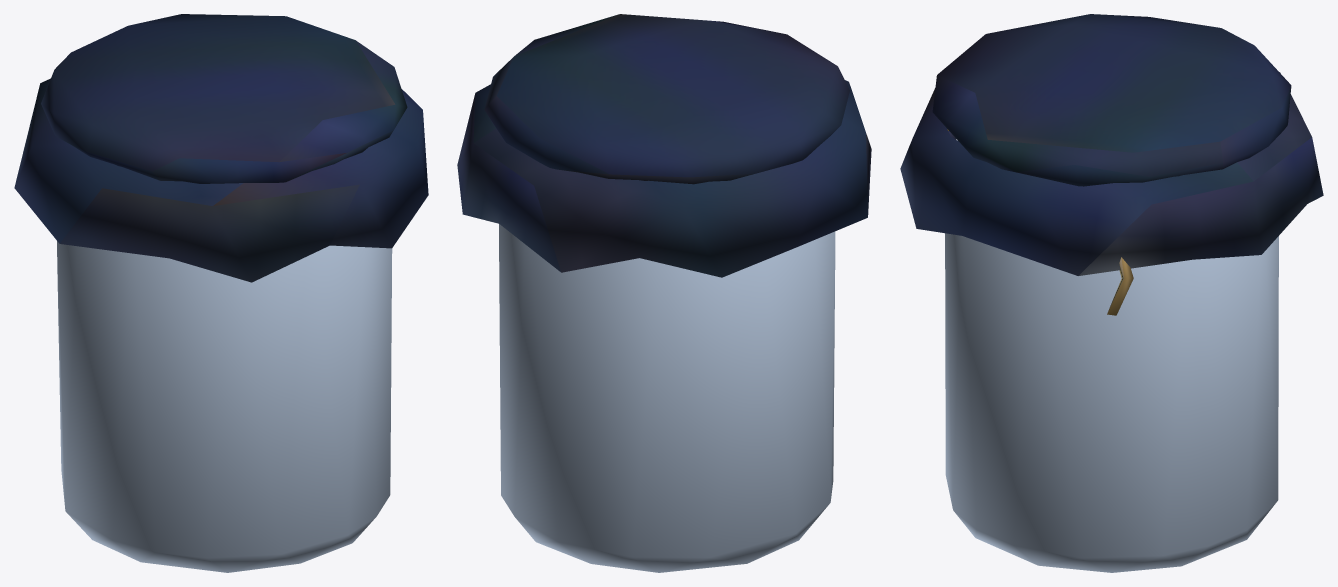
The model's file is pellet_jar_yellow.glb.
3 renders of one model, left to right at view 1: azimuth 30°, elevation 25°; view 2: azimuth 150°, elevation 25°; view 3: azimuth 270°, elevation 25°, orthographic.
Visible parts, largest first — view 1: prop_pellet_jar_yellow_glass, prop_pellet_jar_yellow_felt; view 2: prop_pellet_jar_yellow_glass, prop_pellet_jar_yellow_felt; view 3: prop_pellet_jar_yellow_glass, prop_pellet_jar_yellow_felt.
Boxes of the visible parts, x1=… form: prop_pellet_jar_yellow_glass: x1=57, y1=241, x2=392, y2=572; prop_pellet_jar_yellow_felt: x1=14, y1=14, x2=428, y2=282; prop_pellet_jar_yellow_glass: x1=499, y1=224, x2=835, y2=572; prop_pellet_jar_yellow_felt: x1=457, y1=14, x2=871, y2=277; prop_pellet_jar_yellow_glass: x1=945, y1=233, x2=1278, y2=572; prop_pellet_jar_yellow_felt: x1=900, y1=14, x2=1323, y2=315.
Size of the model in its own units: 0.2344 by 0.2576 by 0.228.
Materials: 2 (1 with a texture image).
